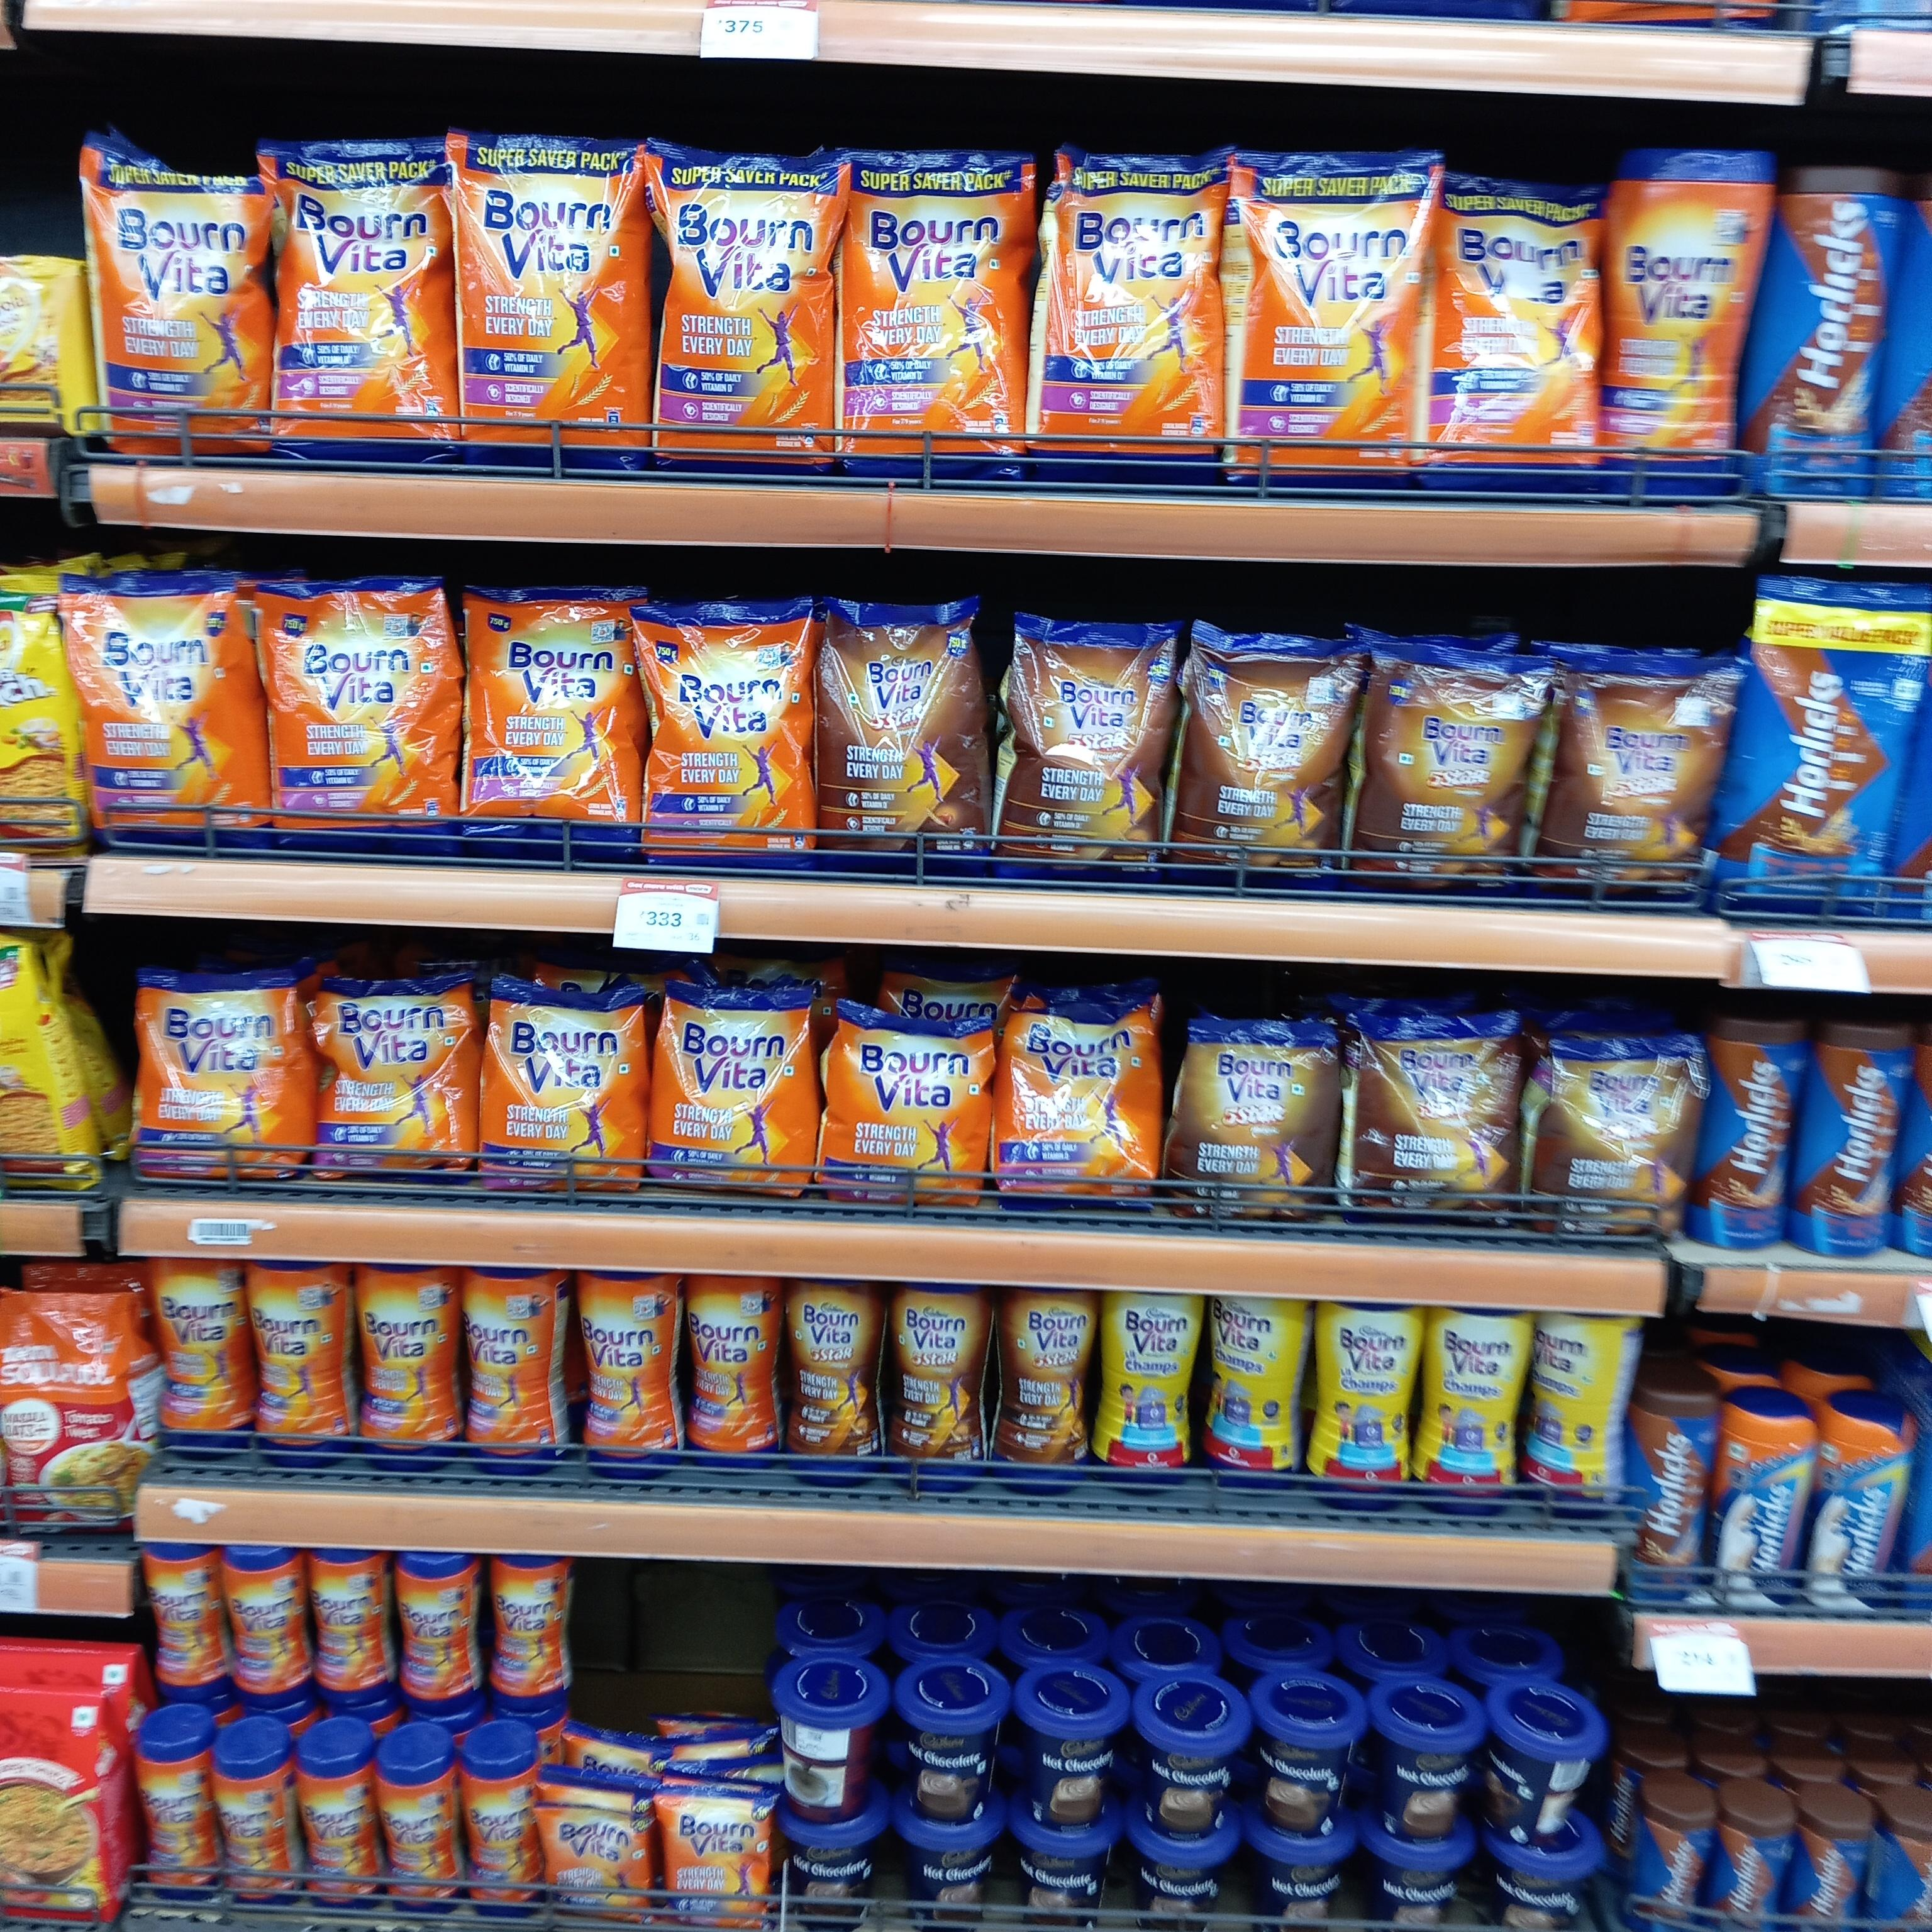BOURN_VITA_1_KG_JAR: (1612, 145, 1755, 501)
BOURN_VITA_1_KG_POUCH: (467, 131, 649, 474), (1240, 147, 1421, 483), (851, 147, 1021, 481), (285, 133, 455, 465), (1054, 154, 1226, 481), (667, 140, 832, 474), (1438, 165, 1601, 492), (87, 149, 258, 458)
BOURN_VITA_200_G_JAR: (479, 1550, 564, 1714), (398, 1552, 474, 1718), (228, 1546, 306, 1706), (149, 1546, 221, 1706), (313, 1546, 384, 1709), (301, 1752, 366, 1909), (462, 1753, 522, 1920), (375, 1760, 441, 1911), (216, 1752, 276, 1905)
BOURN_VITA_500_G_JAR: (570, 1269, 681, 1483), (361, 1263, 462, 1476), (249, 1269, 352, 1474), (464, 1256, 554, 1479), (150, 1251, 244, 1465), (688, 1274, 778, 1474), (138, 1732, 207, 1893)
BOURN_VITA_500_G_POUCH: (136, 973, 295, 1184), (311, 970, 462, 1182), (656, 993, 807, 1201), (1000, 1012, 1154, 1208), (828, 1010, 978, 1208), (487, 987, 625, 1189)
BOURN_VITA_750_G_POUCH: (78, 579, 257, 853), (467, 579, 635, 862), (272, 587, 449, 856), (642, 605, 807, 863)
BOURN_VITA_75_G_POUCH: (538, 1808, 633, 1928), (669, 1806, 759, 1928)
BOURN_VITA_CHAMPS_500_G_JAR: (1309, 1297, 1412, 1522), (1426, 1306, 1523, 1525), (1104, 1292, 1198, 1500), (1205, 1290, 1299, 1488), (1525, 1315, 1608, 1529)
BOURN_VITA_FIVE_STAR_MAGIC_500_G_JAR: (1000, 1283, 1100, 1507), (780, 1274, 881, 1495), (888, 1277, 989, 1495)
BOURN_VITA_FIVE_STAR_MAGIC_500_G_POUCH: (1366, 1026, 1502, 1228), (1548, 1042, 1688, 1237), (1182, 1031, 1323, 1215)
BOURN_VITA_FIVE_STAR_MAGIC_750_G_POUCH: (823, 603, 985, 874), (1005, 617, 1166, 872), (1187, 630, 1343, 890), (1369, 651, 1529, 899), (1559, 669, 1711, 904)
HORLICK_CHOCOLATE_1_KG_JAR: (1780, 161, 1888, 506)
HORLICK_CHOCOLATE_500_G_JAR: (1707, 1007, 1803, 1260), (1810, 1019, 1902, 1265)
HORLICK_CHOCOLATE_500_G_PACK: (1629, 1391, 1714, 1615)
HORLICK_CHOCOLATE_750_G_POUCH: (1750, 587, 1923, 924)
HORLICK_CLASSIC_MALT_500_G_JAR: (1716, 1401, 1812, 1615), (1824, 1415, 1909, 1608)
